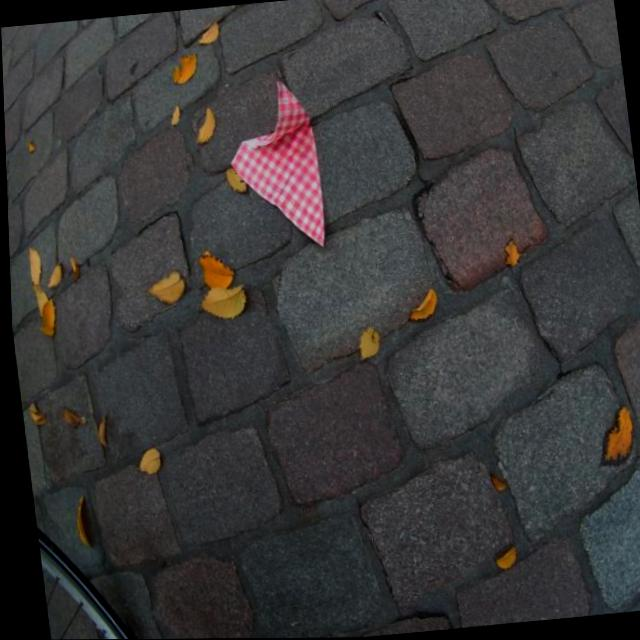Paper: (219, 77, 329, 256)
